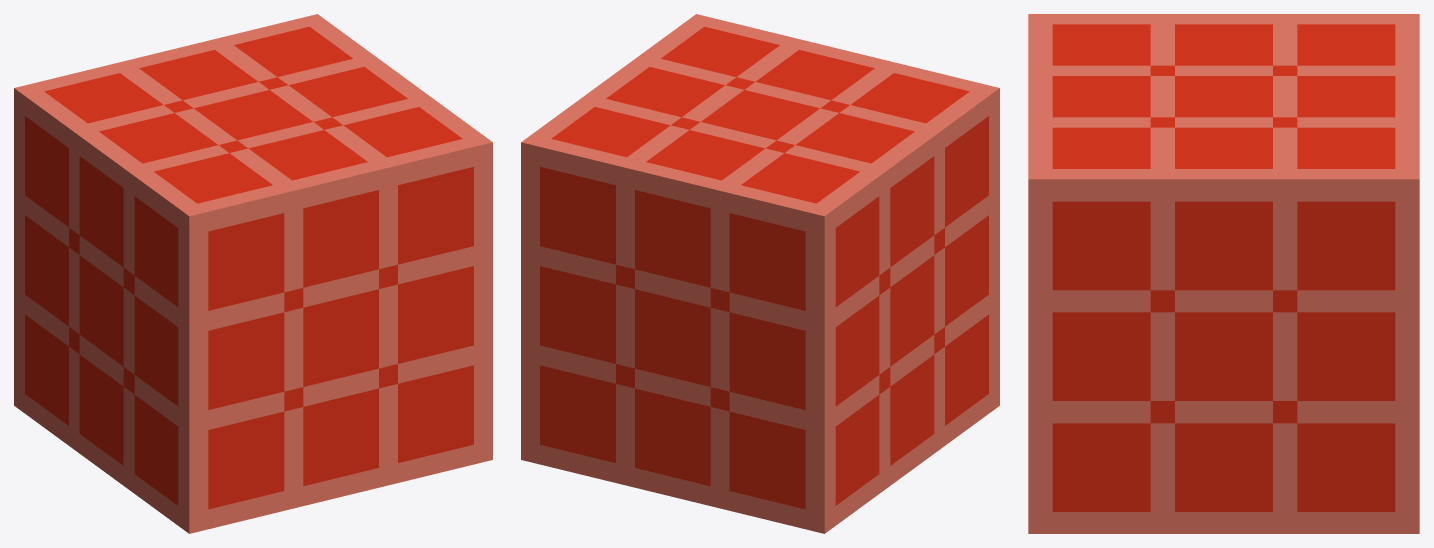
File: CyberTiles_-_Red.fbx
3 views of the same model, side by side, from view 1: azimuth 30°, elevation 25°; view 2: azimuth 150°, elevation 25°; view 3: azimuth 270°, elevation 25° (orthographic). The views are drawn at different scales.
Parts seen in each view (by area): view 1: cyber_tiles - red; view 2: cyber_tiles - red; view 3: cyber_tiles - red.
Boxes of the visible parts, <box> form: cyber_tiles - red: <box>14,14,492,533</box>; cyber_tiles - red: <box>521,14,999,533</box>; cyber_tiles - red: <box>1028,14,1419,533</box>.
Bounding box in the file's own units: 1.6 × 1.6 × 1.6.
Materials: 1 (1 with a texture image).
